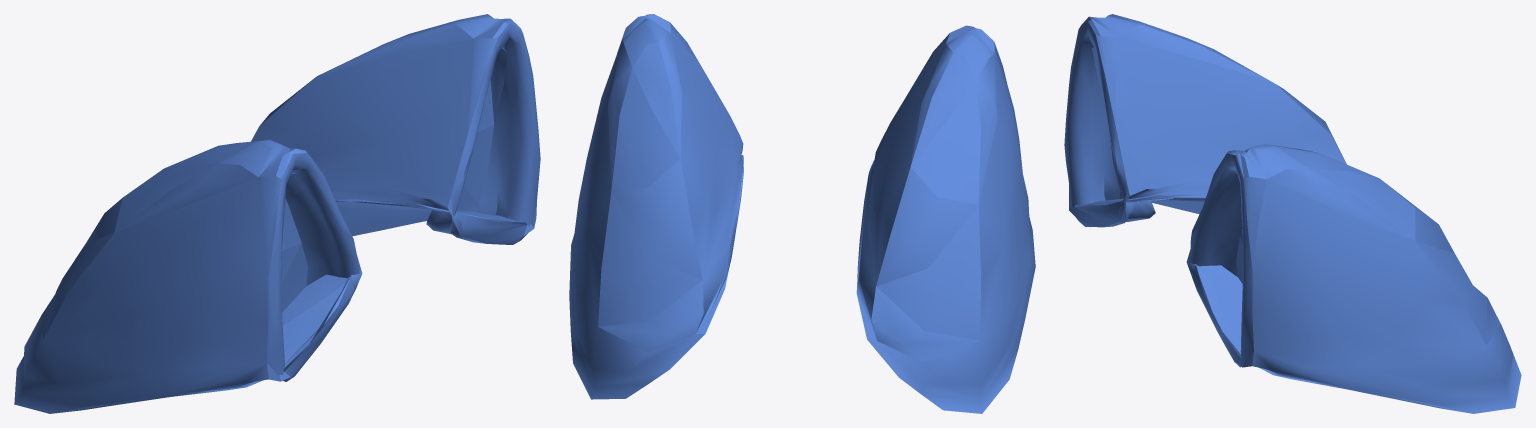
3 views of the same model, side by side, from view 1: azimuth 30°, elevation 25°; view 2: azimuth 150°, elevation 25°; view 3: azimuth 270°, elevation 25° (orthographic). The views are drawn at different scales.
Parts seen in each view (by area): view 1: ears_006; view 2: ears_006; view 3: ears_006.
Boxes of the visible parts, bbox=[...] form: ears_006: bbox=[14, 14, 540, 413]; ears_006: bbox=[569, 14, 1035, 413]; ears_006: bbox=[1064, 14, 1521, 413].
Bounding box in the file's own units: 84.19 × 74.55 × 52.81.
